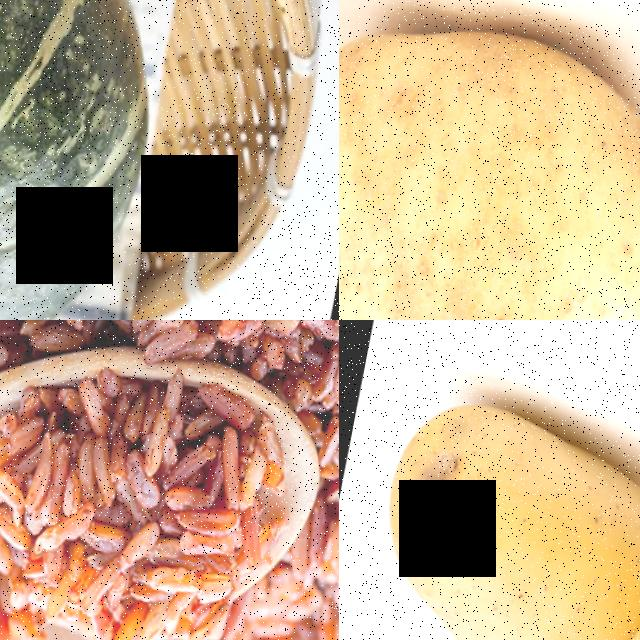potato: (339, 0, 640, 320), (353, 372, 636, 640), (556, 403, 640, 640)
pumpkin: (0, 0, 201, 320)
red rice: (0, 343, 281, 640), (0, 320, 339, 410)
